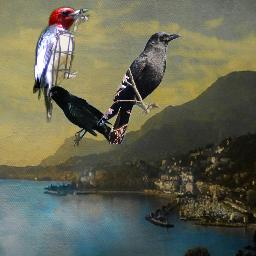Crow: (97, 31, 181, 144), (42, 86, 119, 147)
Woodpecker: (33, 6, 93, 123)
